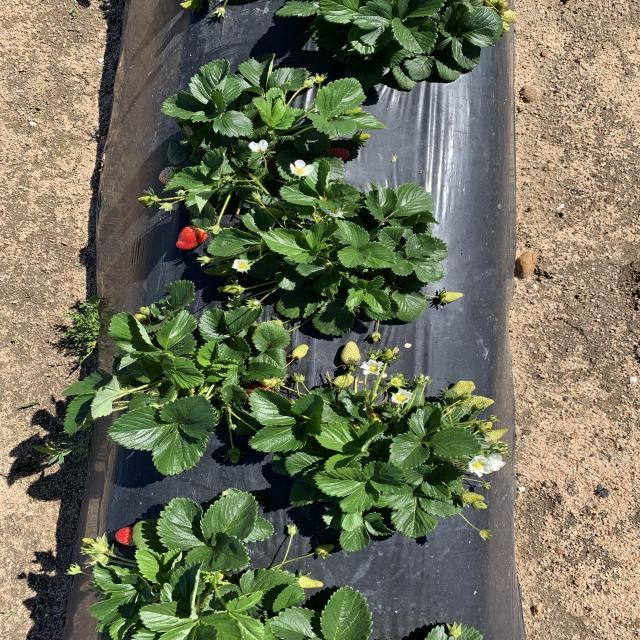unripe: (173, 223, 210, 251), (112, 526, 150, 548)
